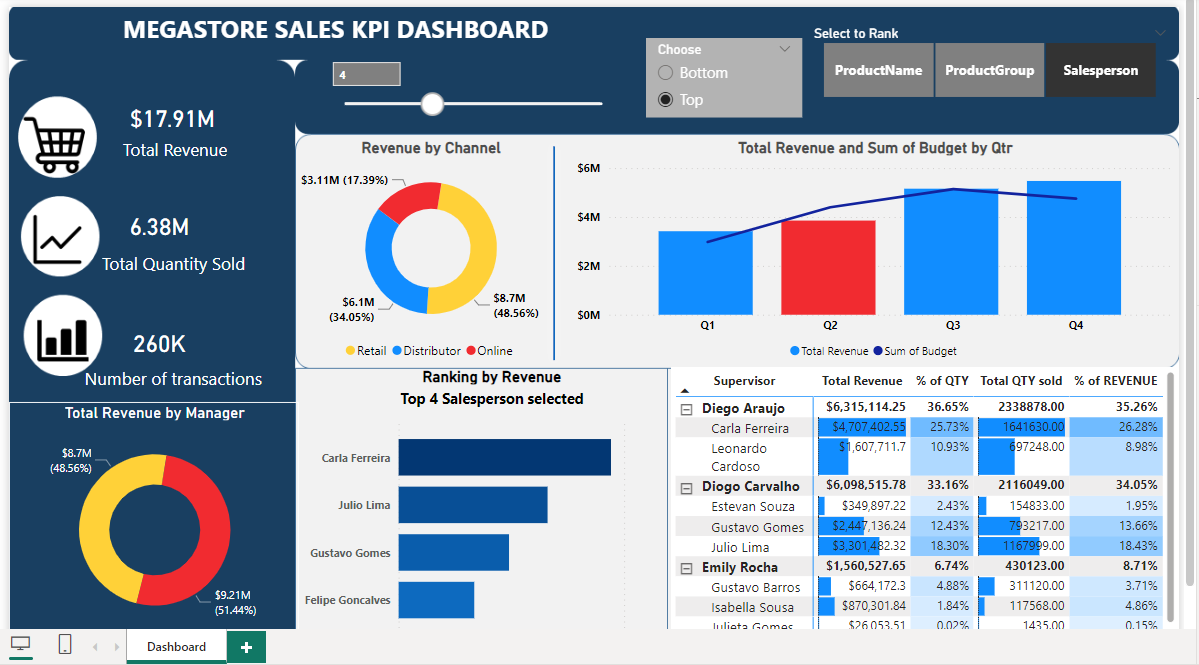

This screenshot's page, from the dashboard's own definition file:
{"tool":"powerbi","page":{"name":"Dashboard","canvas":[1280,720],"ordinal":0},"visuals":[{"type":"card","fields":{"Values":["Measure Table.Total Revenue"]},"box":[35.5,60.1,286.9,121.6],"z":0,"group":"g2"},{"type":"card","fields":{"Values":["Measure Table.Total QTY sold"]},"box":[20.5,173.5,286.9,131.1],"z":0,"group":"g1"},{"type":"card","fields":{"Values":["Measure Table.No. of Trancsactions"]},"box":[20.5,304.6,286.9,127],"z":0,"group":"g3"},{"type":"donutChart","fields":{"Category":["Salesperson Lookup.Manager"],"Y":["Measure Table.Total Revenue"]},"box":[0,431.7,316.9,288.2],"z":0},{"type":"textbox","box":[103.7,137.4,157.8,43.7],"z":1000,"group":"g2"},{"type":"donutChart","title":"Revenue by Channel","fields":{"Category":["Sales Data.Channel"],"Y":["Measure Table.Total Revenue"]},"box":[307.4,143.4,308.7,251.4],"z":1000},{"type":"textbox","box":[49.9,261.6,259.6,43.7],"z":1000,"group":"g1"},{"type":"textbox","box":[48.5,388.4,260.9,43.7],"z":1000,"group":"g3"},{"type":"lineStackedColumnComboChart","fields":{"Y":["Measure Table.Total Revenue"],"Category":["Calender.Year Hierarchy.Year","Calender.Year Hierarchy.Month","Calender.Year Hierarchy.Qtr"],"Y2":["Sum(Budget.Budget)"]},"box":[616.1,143.4,663.9,251.4],"z":2000},{"type":"clusteredBarChart","title":"Ranking by Revenue","fields":{"Category":["Salesperson Lookup.Salesperson"],"Y":["Measure Table.Ranking"]},"box":[316.9,393.4,422.1,326.5],"z":3000},{"type":"pivotTable","fields":{"Rows":["Salesperson Lookup.Supervisor","Salesperson Lookup.Salesperson"],"Values":["Measure Table.Total Revenue","Measure Table.% of measure","Measure Table.Total QTY sold","Measure Table.% of REVENUE"]},"box":[724.3,394.3,555.7,325.7],"z":4000},{"type":"group","id":"g1","title":"Group 3","box":[20.5,173.5,288.9,131.8],"z":5000},{"type":"group","id":"g2","title":"Group 4","box":[35.5,60.1,286.9,121.6],"z":6000},{"type":"group","id":"g3","title":"Group 6","box":[20.5,304.6,288.9,127.5],"z":7000},{"type":"shape","box":[576.5,144.8,39.6,250],"z":8000},{"type":"slicer","fields":{"Values":["Choose Rank.Choose Rank"]},"box":[341.4,50,328.6,87.1],"z":9000},{"type":"slicer","fields":{"Values":["Choose RankType.Select"]},"box":[696.7,34.2,170.8,87.4],"z":10000},{"type":"slicer","fields":{"Values":["Select to Rank.Select to Rank"]},"box":[867.4,16.4,411.2,87.4],"z":11000},{"type":"textbox","box":[30,0,655.7,50],"z":12000}]}

Visuals, with their boxes on the page's 1280x720 design canvas (x1, y1, x2, y2). These are canvas units, not pixel positions in the 1199x665 screenshot, which may show the page scaled, cropped or inside an application window:
card - Measure Table.Total Revenue: 36/60/322/182
card - Measure Table.Total QTY sold: 20/174/307/305
card - Measure Table.No. of Trancsactions: 20/305/307/432
donutChart - Salesperson Lookup.Manager x Measure Table.Total Revenue: 0/432/317/720
textbox: 104/137/262/181
"Revenue by Channel" donutChart: 307/143/616/395
textbox: 50/262/310/305
textbox: 48/388/309/432
lineStackedColumnComboChart - Measure Table.Total Revenue x Calender.Year Hierarchy.Year: 616/143/1280/395
"Ranking by Revenue" clusteredBarChart: 317/393/739/720
pivotTable - Salesperson Lookup.Supervisor x Salesperson Lookup.Salesperson: 724/394/1280/720
"Group 3" group: 20/174/309/305
"Group 4" group: 36/60/322/182
"Group 6" group: 20/305/309/432
shape: 576/145/616/395
slicer - Choose Rank.Choose Rank: 341/50/670/137
slicer - Choose RankType.Select: 697/34/868/122
slicer - Select to Rank.Select to Rank: 867/16/1279/104
textbox: 30/0/686/50
